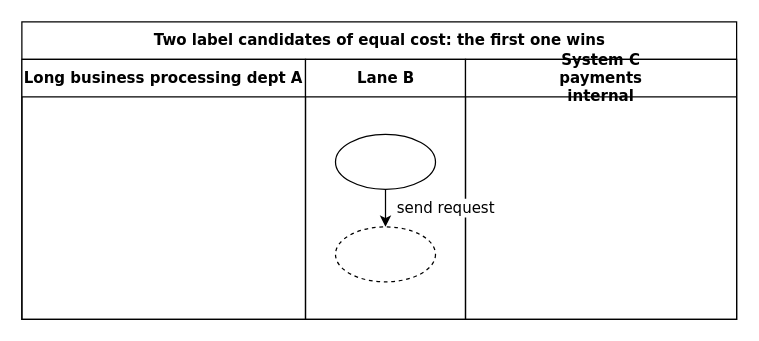
This 759x341 diagram has some shape labels left out. The shapes that lost their labels are listed below. From the top down, each one's centre as x and y in pixels, then its label:
the point at 385,161: B-1 x
the point at 385,254: B-2 x
